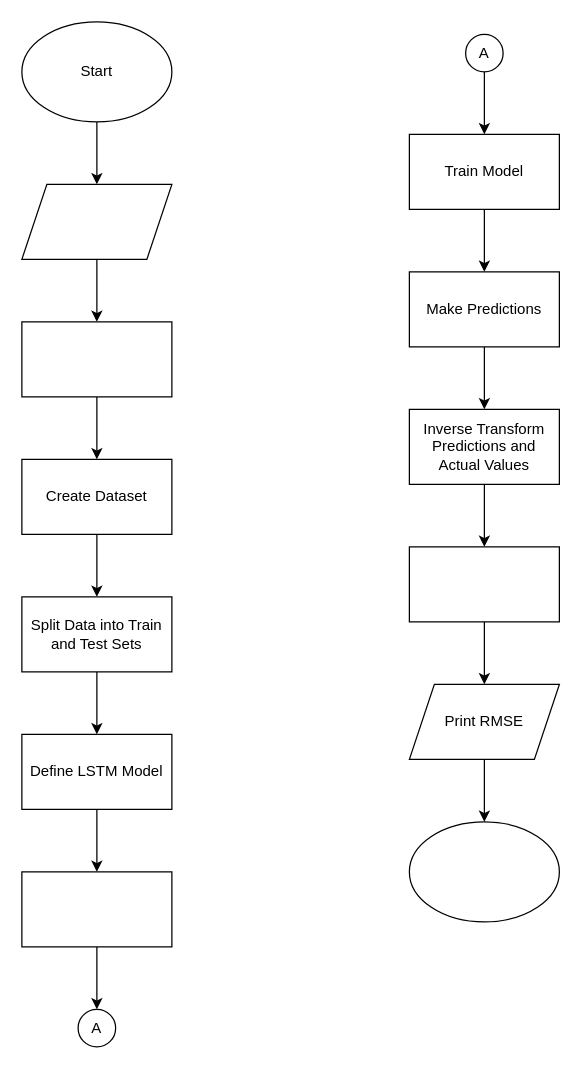
Some shapes in this 581 by 1069 pixel diagram are drawn without their labels. The shapes that lost their labels are listed below. From the top down, each one's centre as x and y in pixels, then its label:
At point 96,221: "Load Data".
At point 96,359: "Normalise Data".
At point 483,584: "Calculate Root Mean Squared Error (RMSE)".
At point 483,871: "END".
At point 96,909: "Complile Model".
